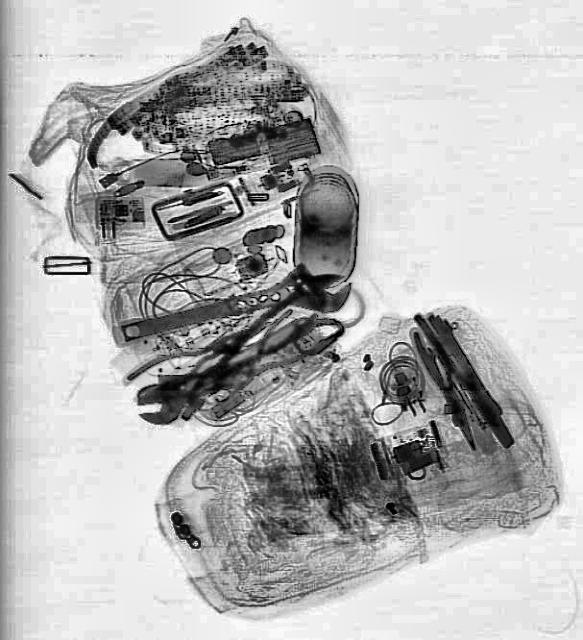Pliers: (122, 305, 268, 419), (411, 321, 487, 455)
Wrench: (129, 296, 323, 434), (115, 250, 357, 360)
